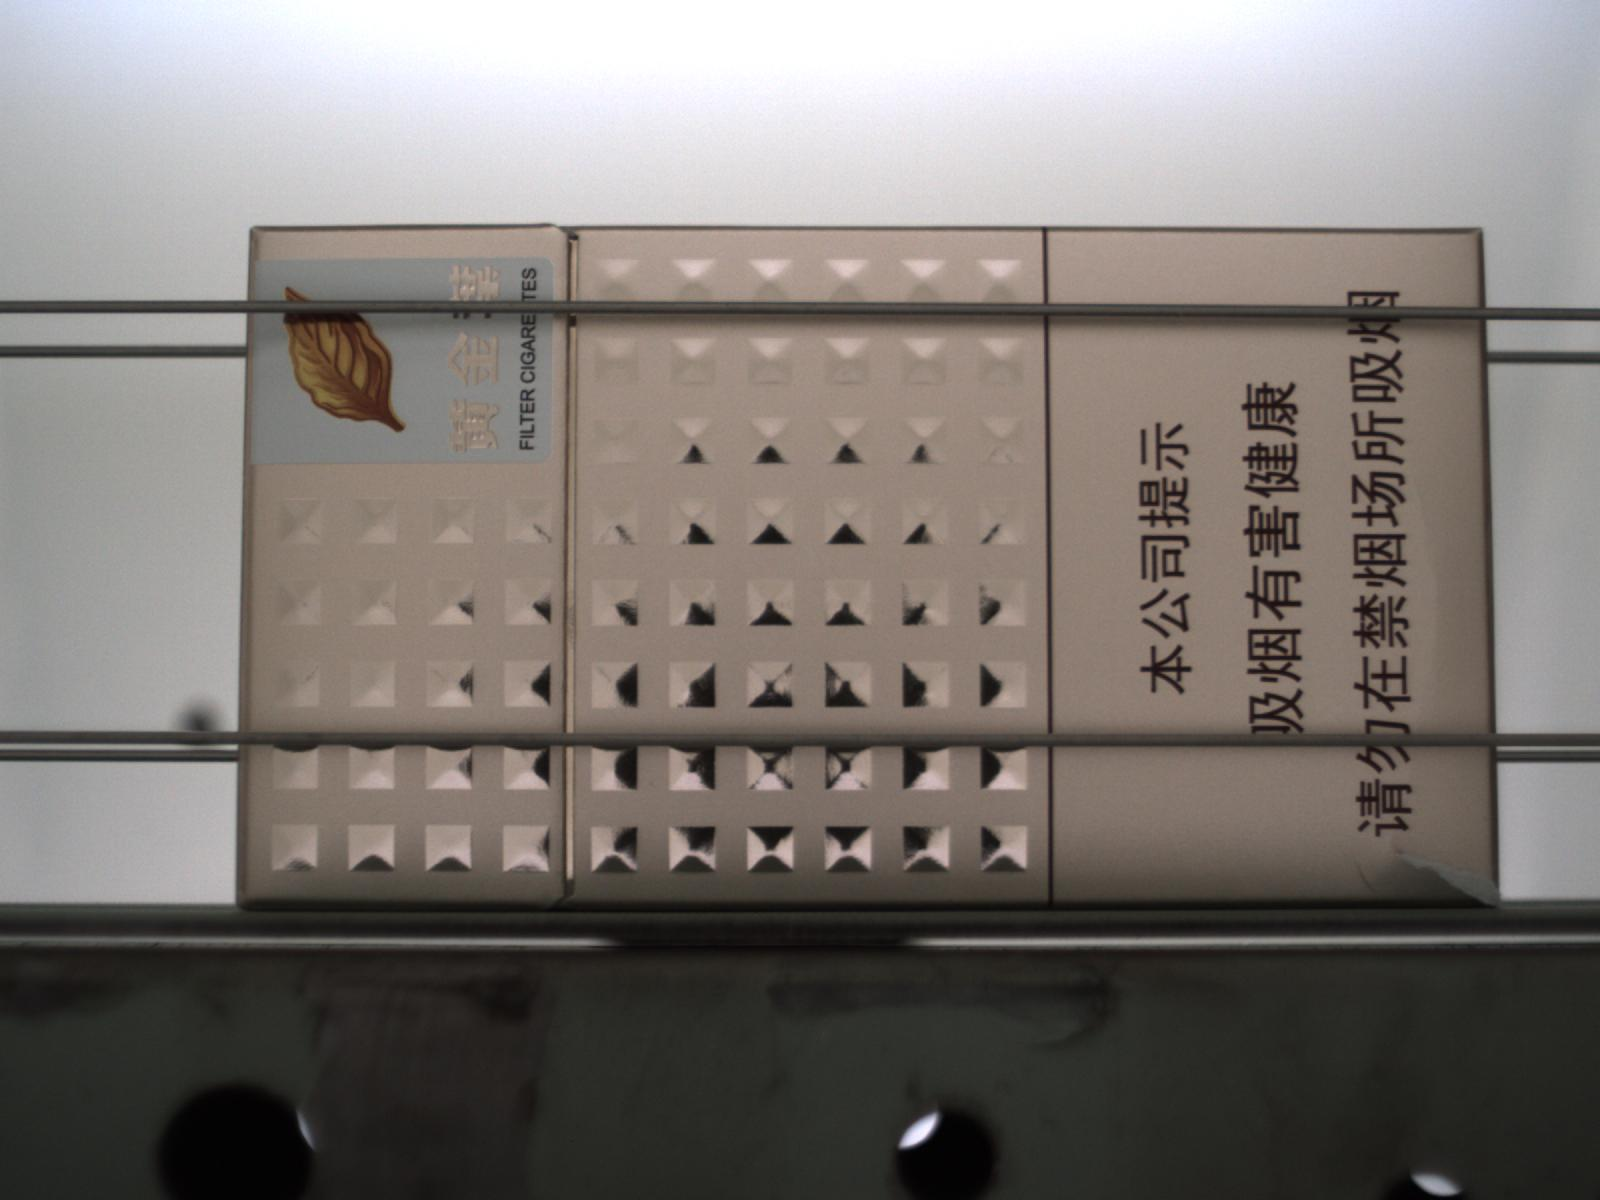crease: (1409, 463, 1455, 711)
crease_corner_heavy: (1388, 839, 1498, 908)
